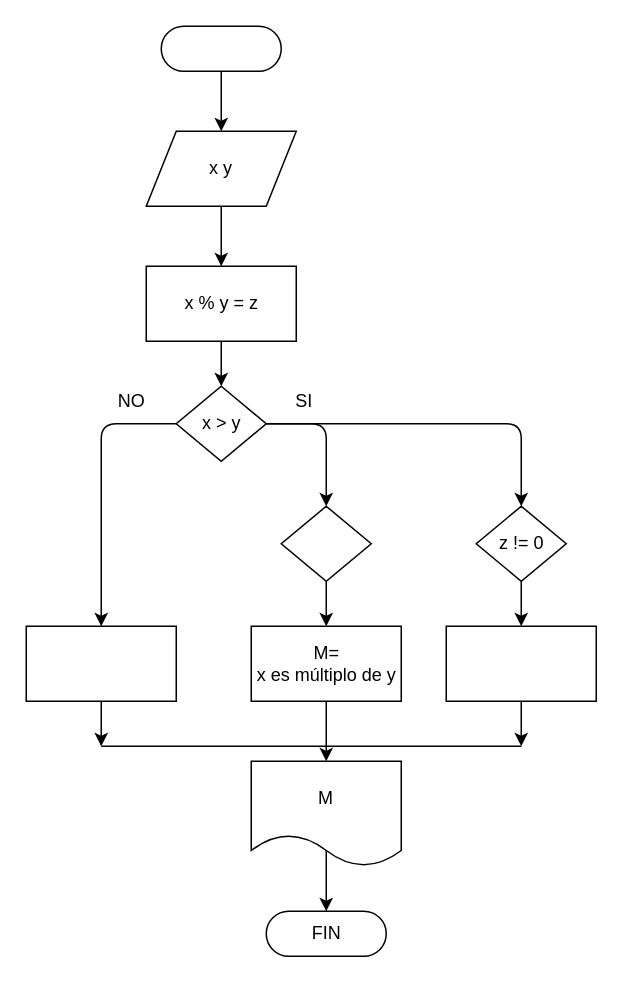
This 626x983 diagram has some shape labels left out. Here are the shapes that lost their labels. From the top down, the centre of each, then its label:
the point at 220,48: INICIO
the point at 325,543: z == 0
the point at 100,663: M= x no puede ser múltiplo de y
the point at 520,663: M= x no es múltiplo de y
